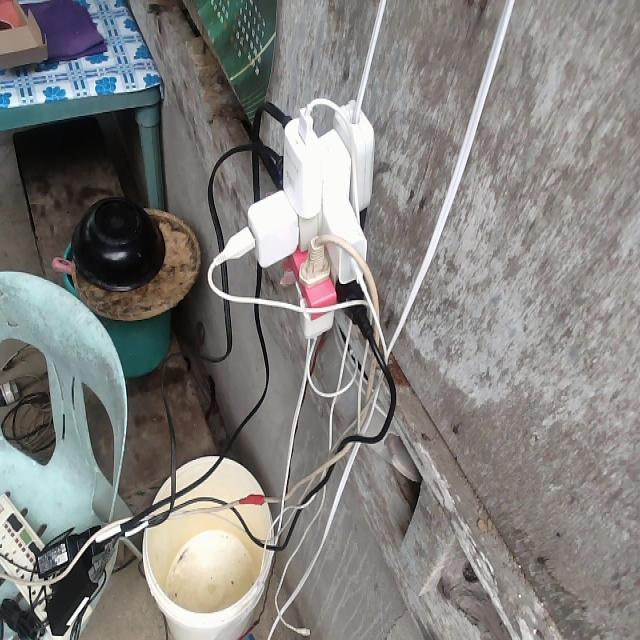-: (176, 80, 385, 397)
